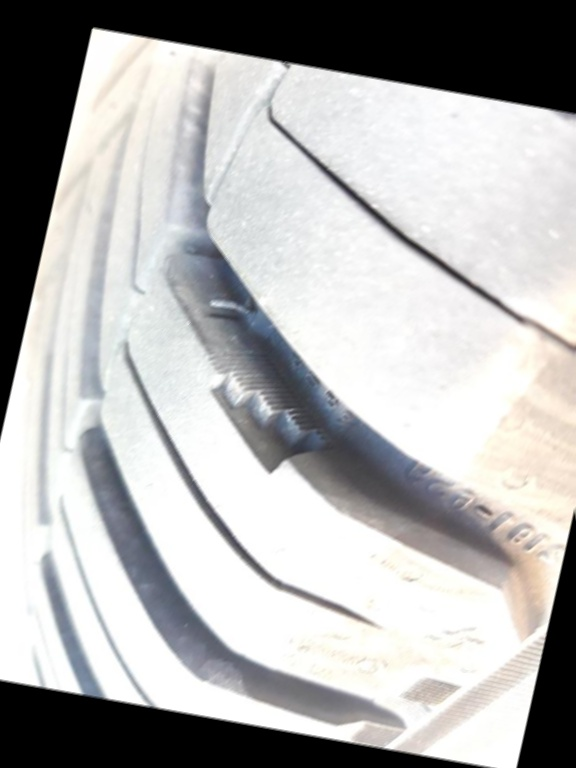temoin:90: (170, 336, 363, 493)
